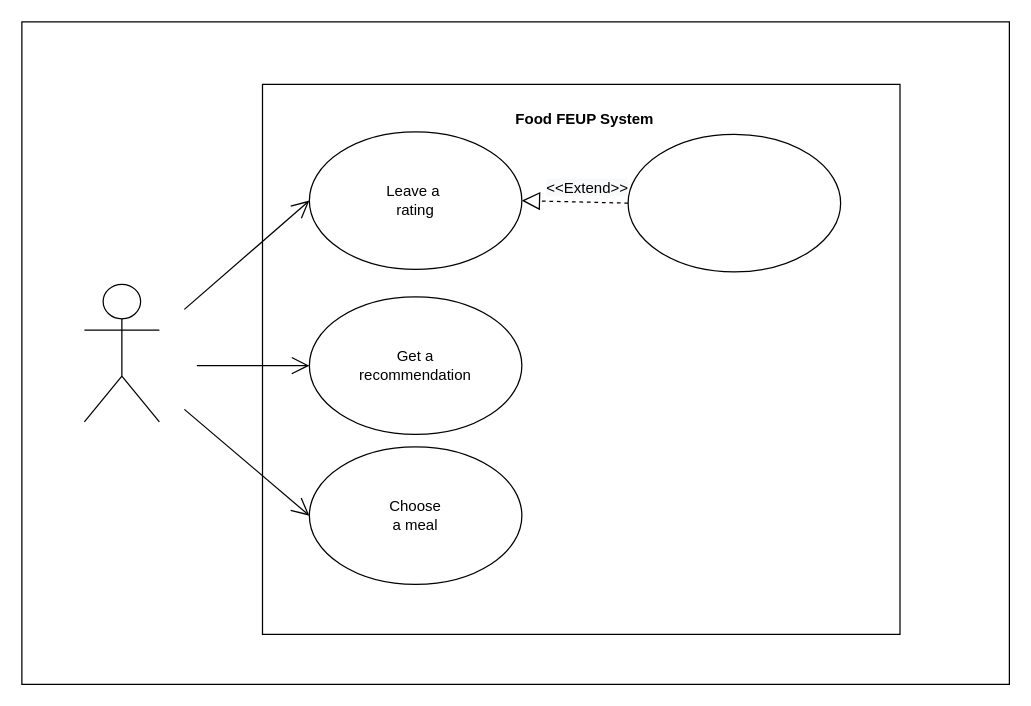
Some shapes in this 1031 by 706 pixel diagram are drawn without their labels. Here are the shapes that lost their labels. From the top down, the box of each, then its label:
(627, 133, 841, 272): Leave a comment
(83, 283, 159, 422): Authenticated User
